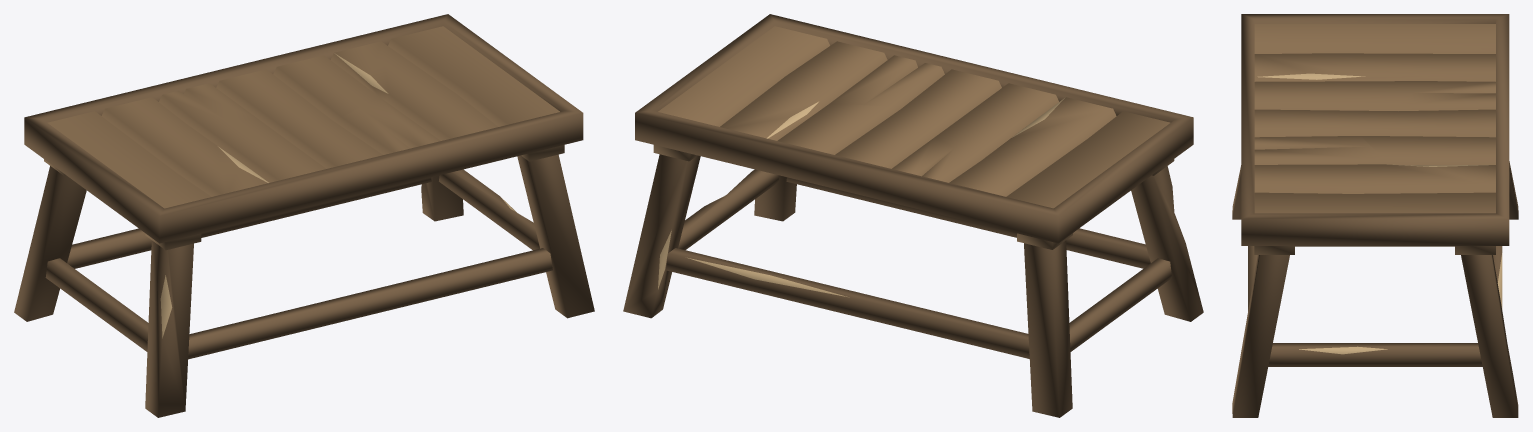
The model's file is rpgpp_ag_table_04.fbx.
3 renders of one model, left to right at view 1: azimuth 30°, elevation 25°; view 2: azimuth 150°, elevation 25°; view 3: azimuth 270°, elevation 25°, orthographic.
Visible parts, largest first — view 1: rpgpp_ag_table_04; view 2: rpgpp_ag_table_04; view 3: rpgpp_ag_table_04.
Part boxes in pixels (<box>): rpgpp_ag_table_04: <box>14,14,594,417</box>; rpgpp_ag_table_04: <box>623,14,1203,417</box>; rpgpp_ag_table_04: <box>1232,14,1518,417</box>.
Bounding box in the file's own units: 1.86 × 0.8007 × 1.06.
